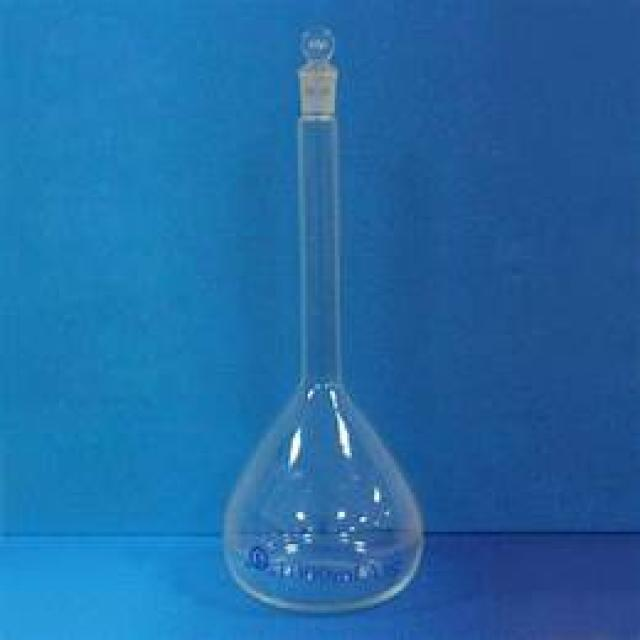Volumetric flask: (204, 18, 429, 610)
